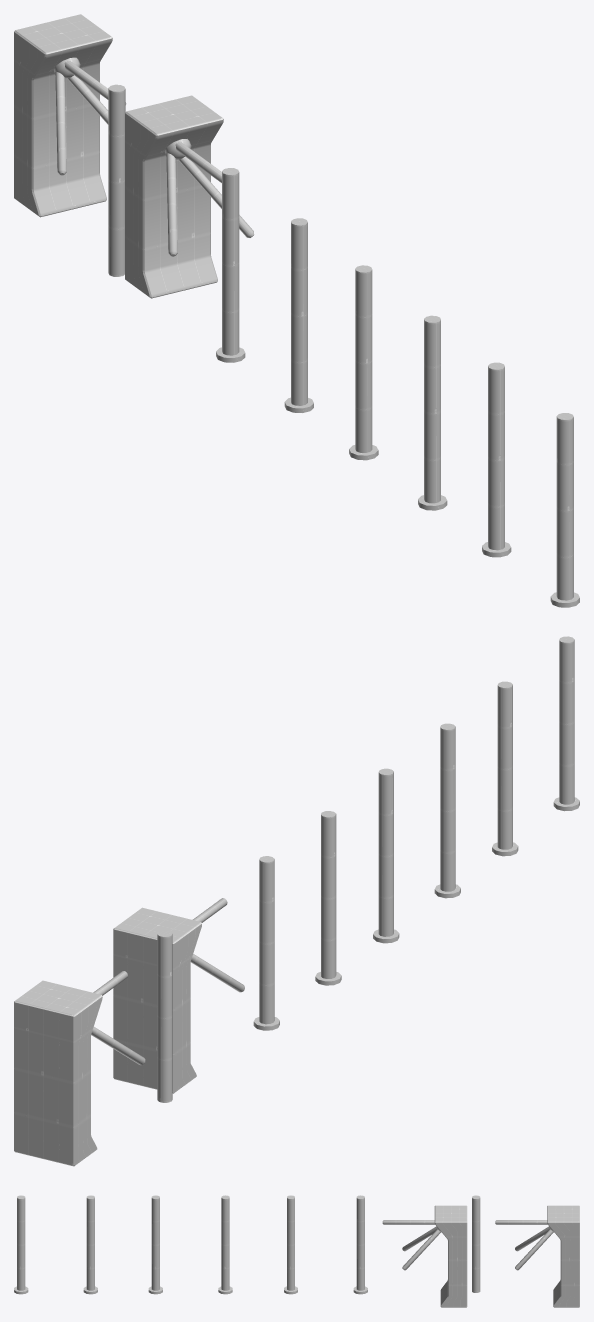
The model's file is SM_Gate_01.FBX.
The picture shows the model from 3 angles, top to bottom: view 1: azimuth 30°, elevation 25°; view 2: azimuth 150°, elevation 25°; view 3: azimuth 270°, elevation 25°; orthographic projection. The views are drawn at different scales.
Visible parts, largest first — view 1: SM_Gate_01; view 2: SM_Gate_01; view 3: SM_Gate_01.
Part boxes in pixels (<box>): SM_Gate_01: <box>14,14,579,607</box>; SM_Gate_01: <box>14,636,579,1166</box>; SM_Gate_01: <box>14,1195,579,1307</box>.
Size of the model in its own units: 50.49 by 105 by 571.
